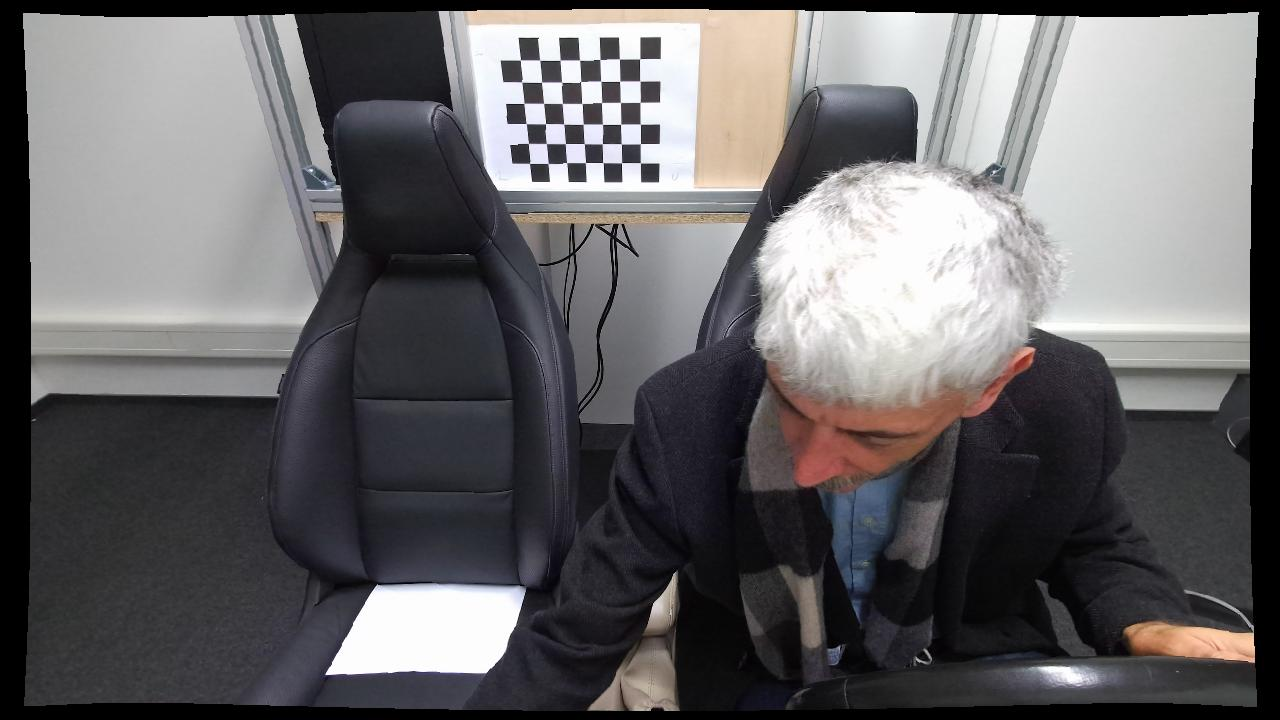Distracted: (461, 150, 1138, 709)
